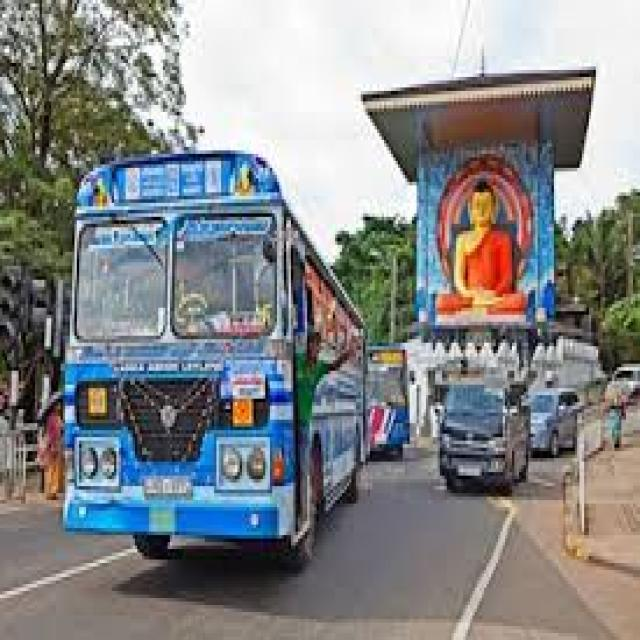bus: (69, 136, 366, 604), (373, 333, 413, 482)
matatu: (435, 366, 537, 506)
